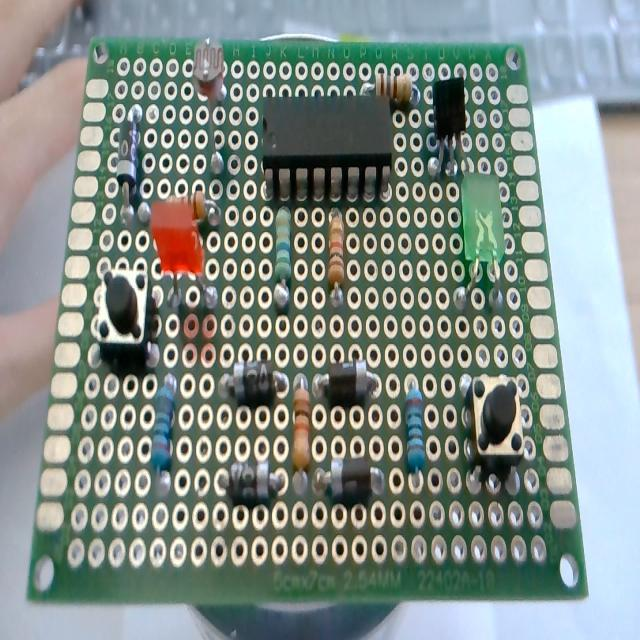IC: (253, 92, 395, 202)
cds: (179, 38, 239, 170)
diode: (107, 105, 145, 242), (218, 449, 288, 506), (315, 462, 386, 512), (313, 358, 377, 412), (220, 354, 290, 402)
led: (452, 167, 512, 323), (151, 200, 215, 314)
resistor: (261, 207, 307, 309), (397, 370, 429, 501), (149, 386, 179, 493), (322, 206, 352, 308), (287, 377, 312, 499)
switch: (457, 372, 533, 472), (93, 258, 153, 375)
transistor: (425, 64, 479, 182)
